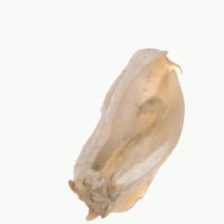L1: (69, 184, 114, 221), (134, 46, 179, 79)
L2: (69, 47, 185, 223)
